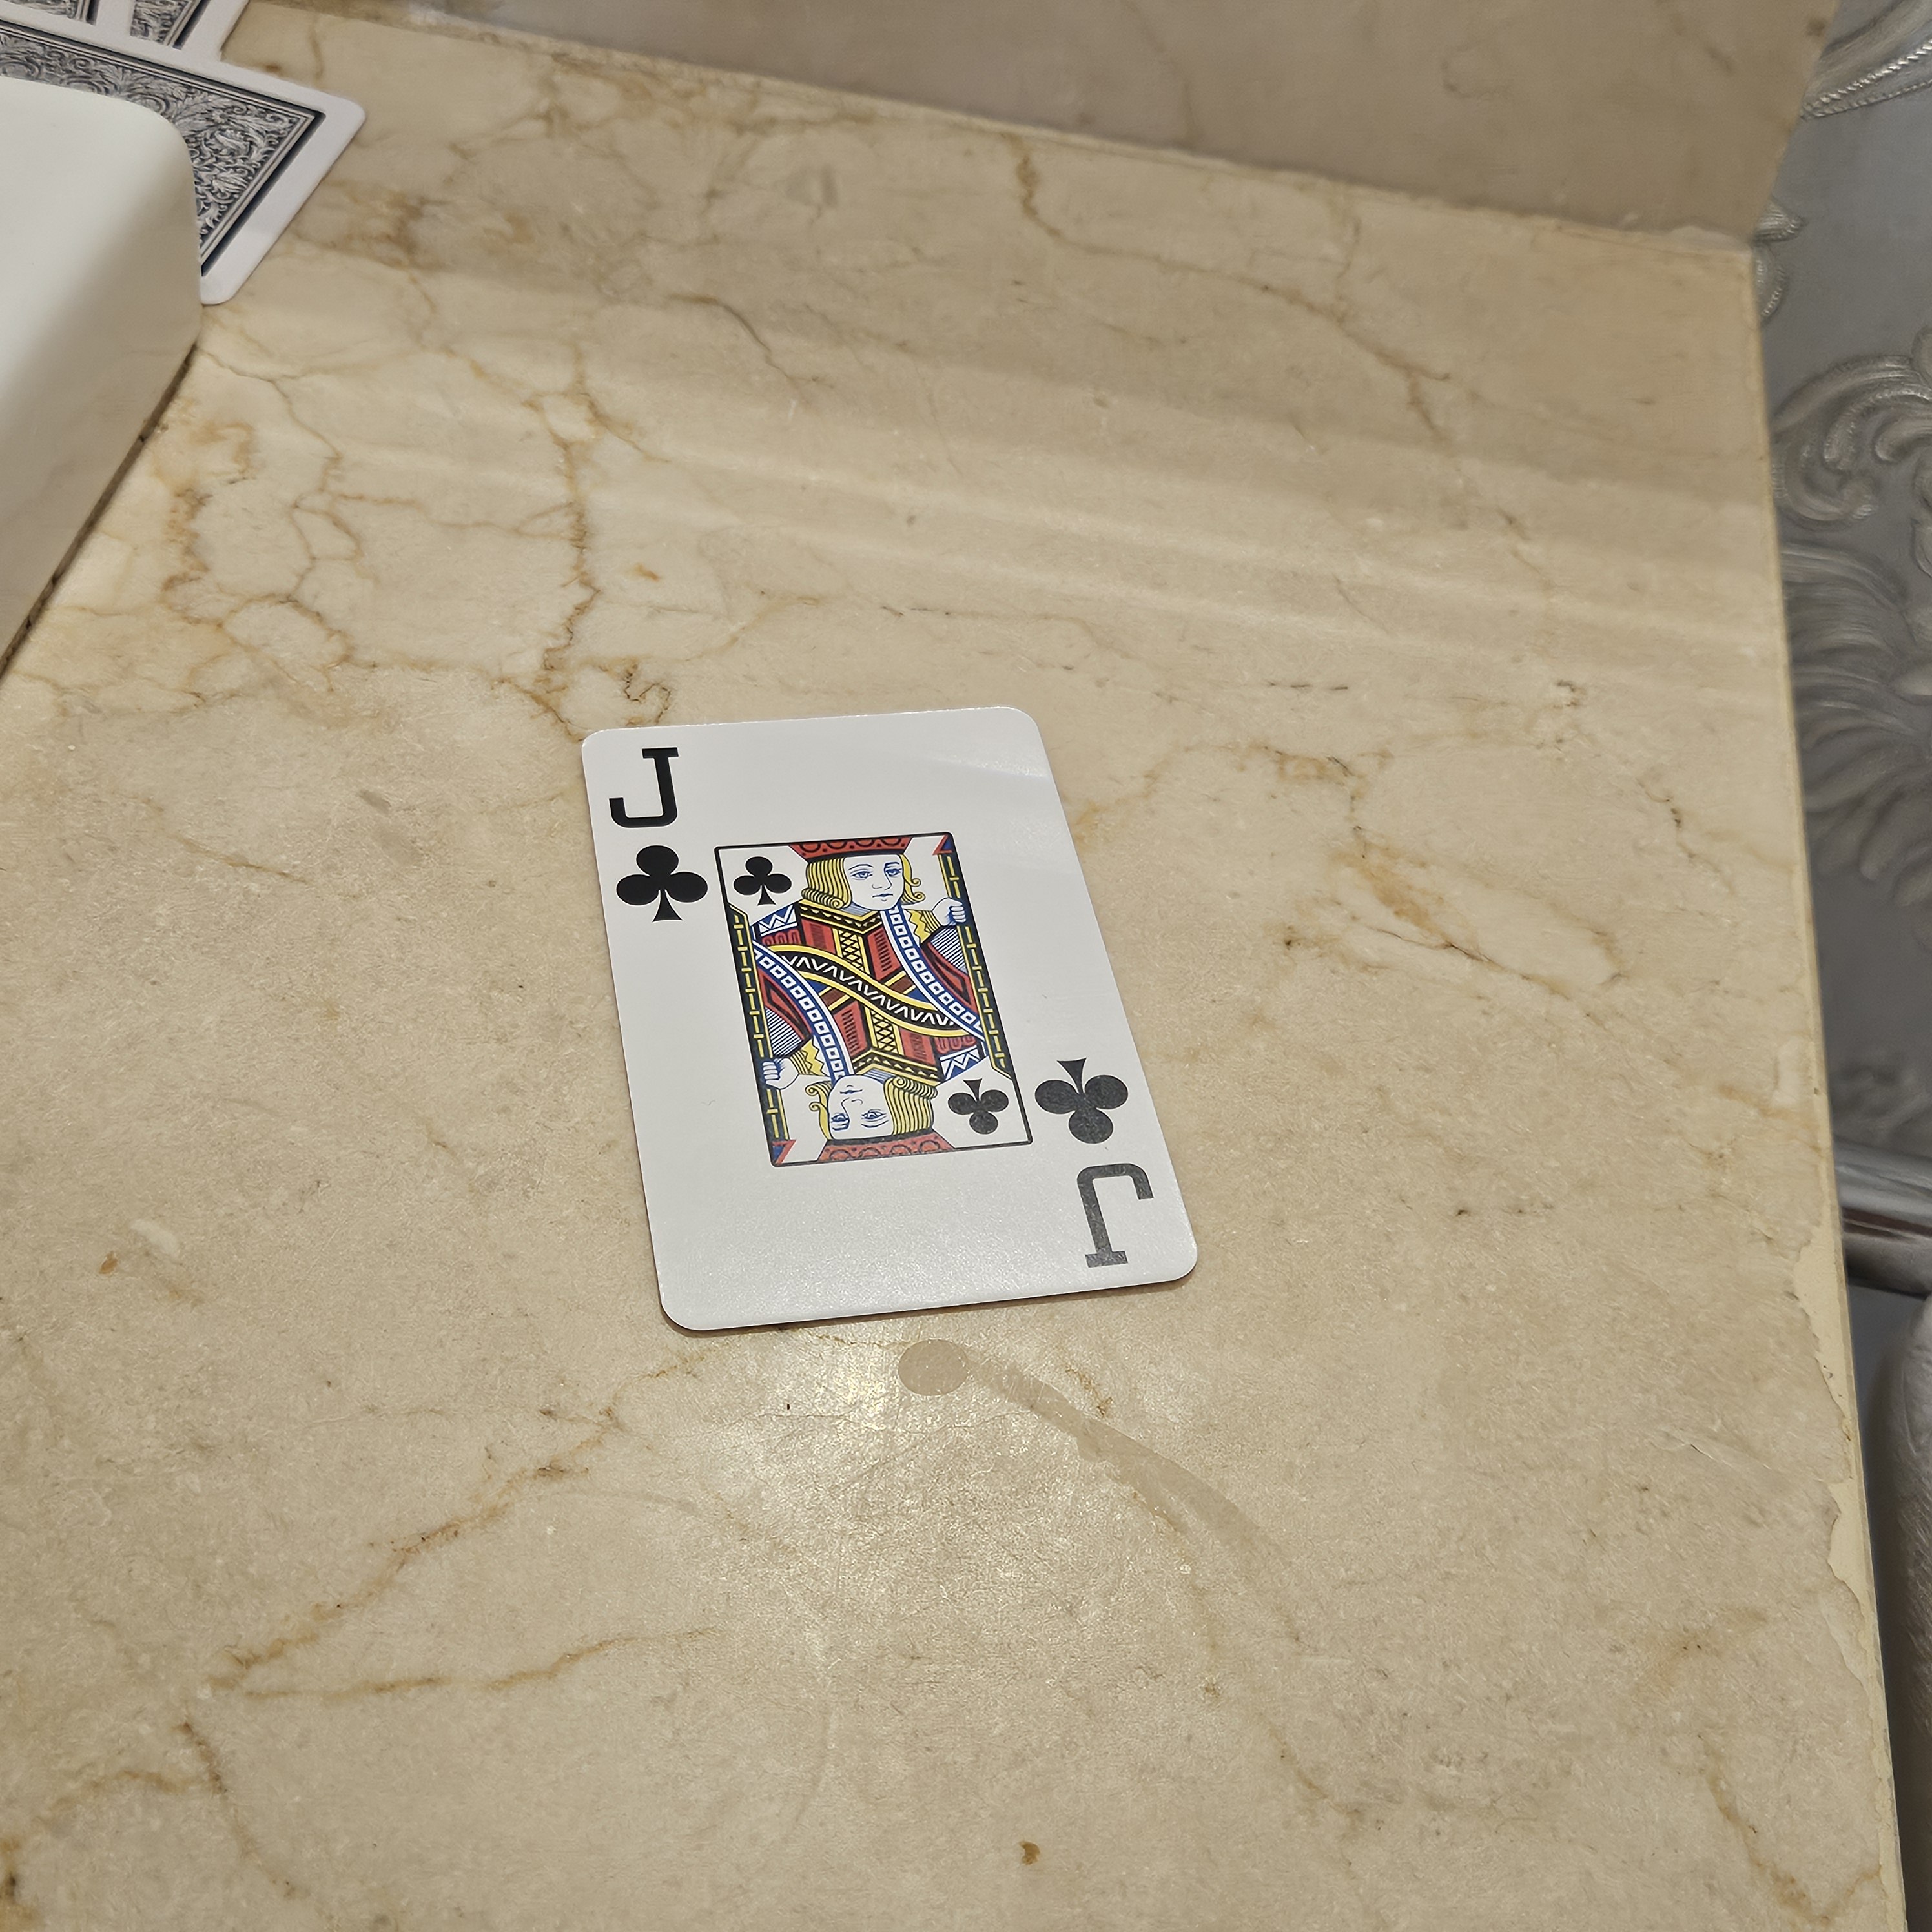JP: (1023, 1037, 1168, 1279), (594, 731, 725, 947)
